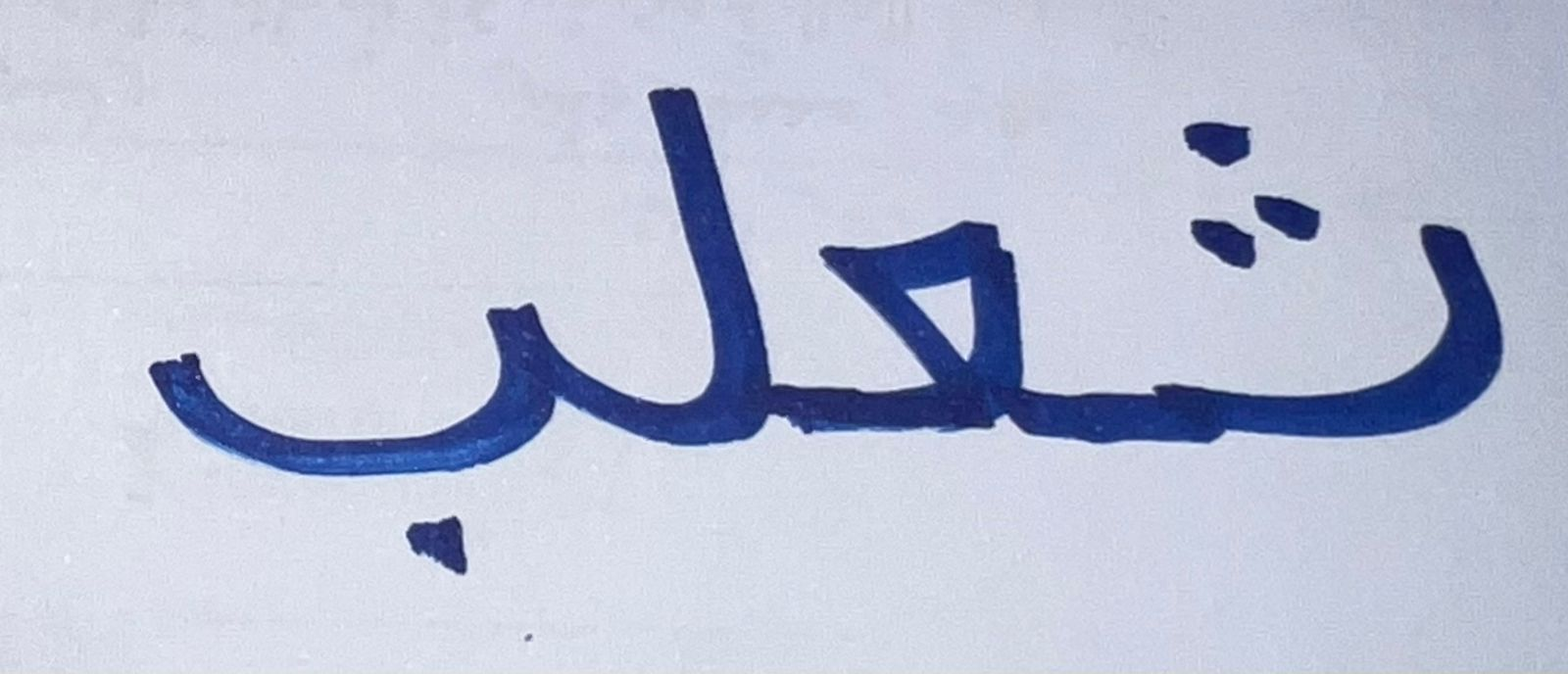beh: (130, 286, 578, 579)
kaf: (812, 165, 1100, 491)
lam: (583, 24, 800, 473)
theh: (1126, 60, 1526, 524)
